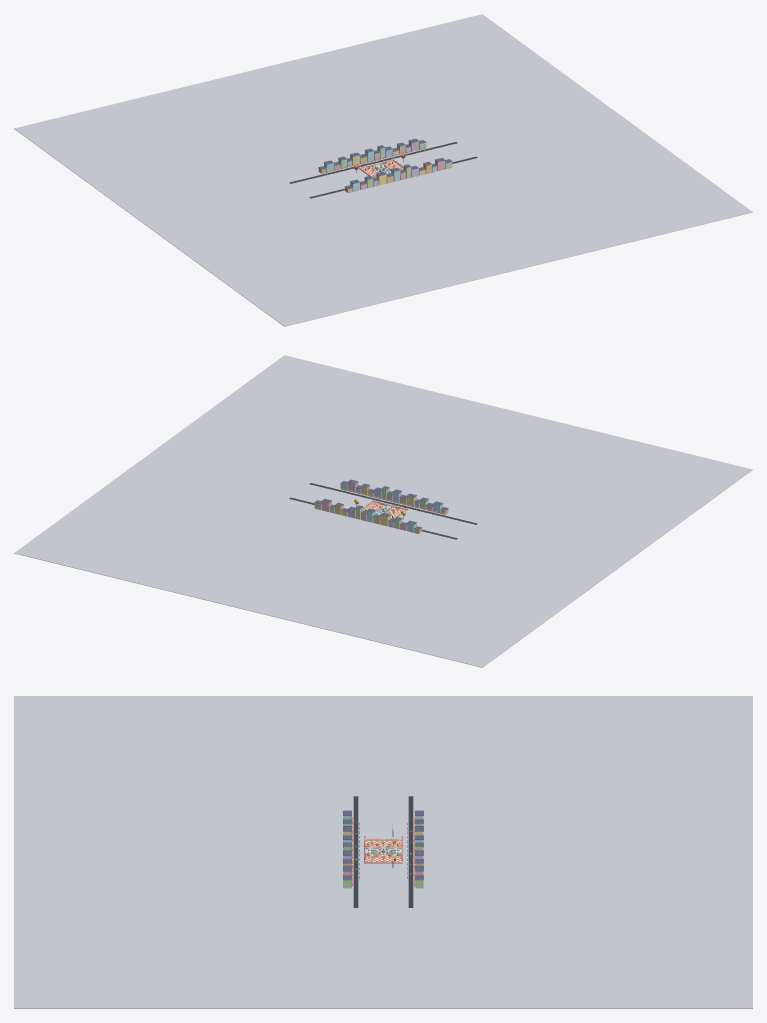
Rendered from restaurante.glb.
3 views of the same model, one above another, from view 1: azimuth 30°, elevation 25°; view 2: azimuth 150°, elevation 25°; view 3: azimuth 270°, elevation 25° (orthographic). The views are drawn at different scales.
Parts seen in each view (by area): view 1: Visual.001; view 2: Visual.001; view 3: Visual.001.
Part boxes in pixels (x1,y1,x2,y2): Visual.001: (14, 14, 752, 326); Visual.001: (14, 355, 752, 667); Visual.001: (14, 696, 752, 1008).
Size of the model in its own units: 1400 by 33.45 by 1400.
